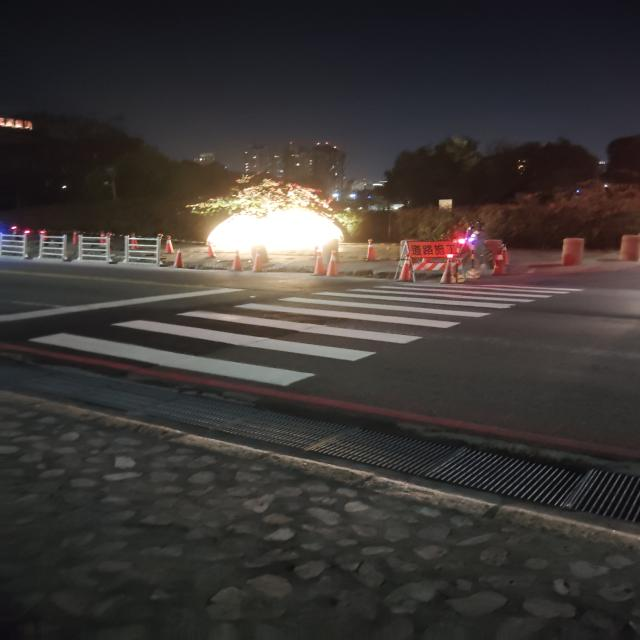zebra crossing: (49, 273, 575, 394)
